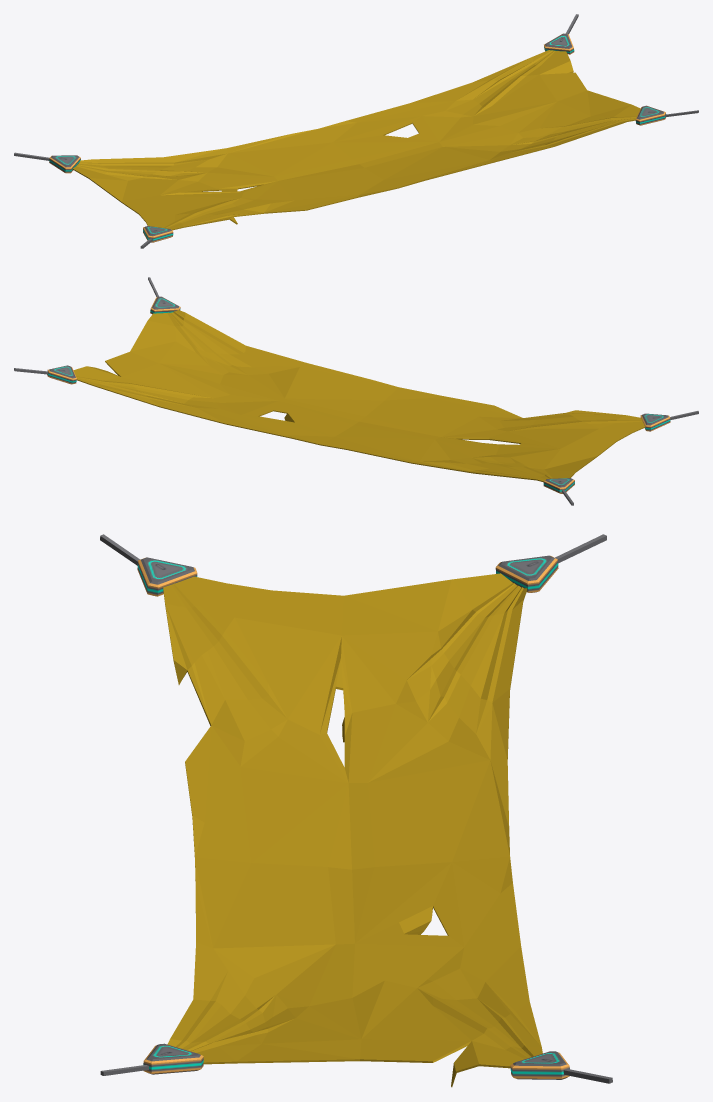
File: SM_Prop_Canopy_01.fbx
3 renders of one model, top to bottom at view 1: azimuth 30°, elevation 25°; view 2: azimuth 150°, elevation 25°; view 3: azimuth 270°, elevation 25°, orthographic. The views are drawn at different scales.
Visible parts, largest first — view 1: SM_Prop_Canopy_01; view 2: SM_Prop_Canopy_01; view 3: SM_Prop_Canopy_01.
Part boxes in pixels (x1,y1,x2,y2): SM_Prop_Canopy_01: (14, 14, 698, 248); SM_Prop_Canopy_01: (14, 277, 698, 505); SM_Prop_Canopy_01: (100, 534, 612, 1087).
Size of the model in its own units: 1376 by 97.59 by 547.
